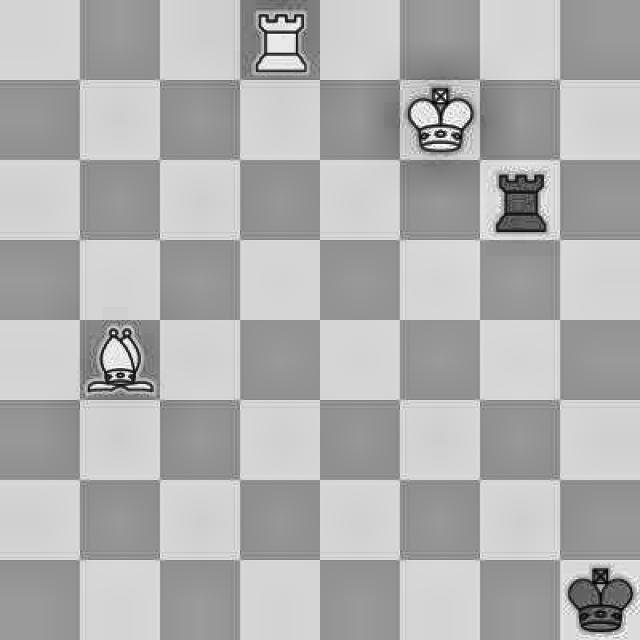black king: (558, 558, 640, 640)
black rook: (475, 158, 557, 236)
white bishop: (83, 317, 163, 399)
white king: (406, 78, 484, 156)
white rook: (245, 0, 313, 79)
